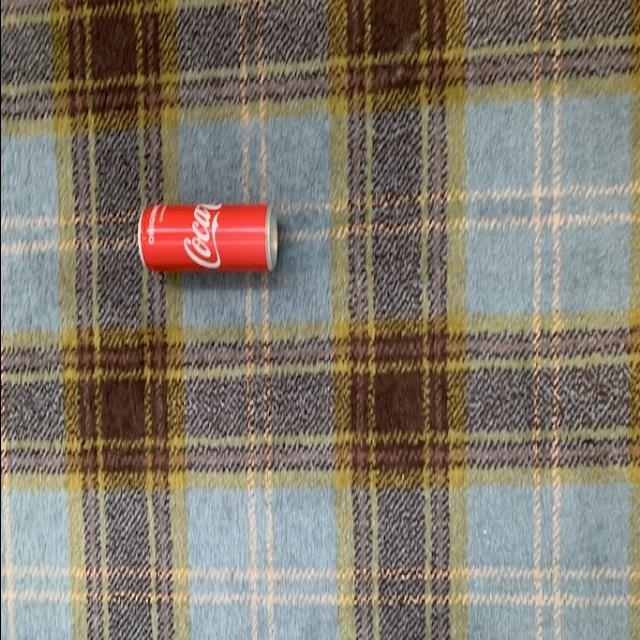Aluminum Can: (136, 202, 274, 278)
